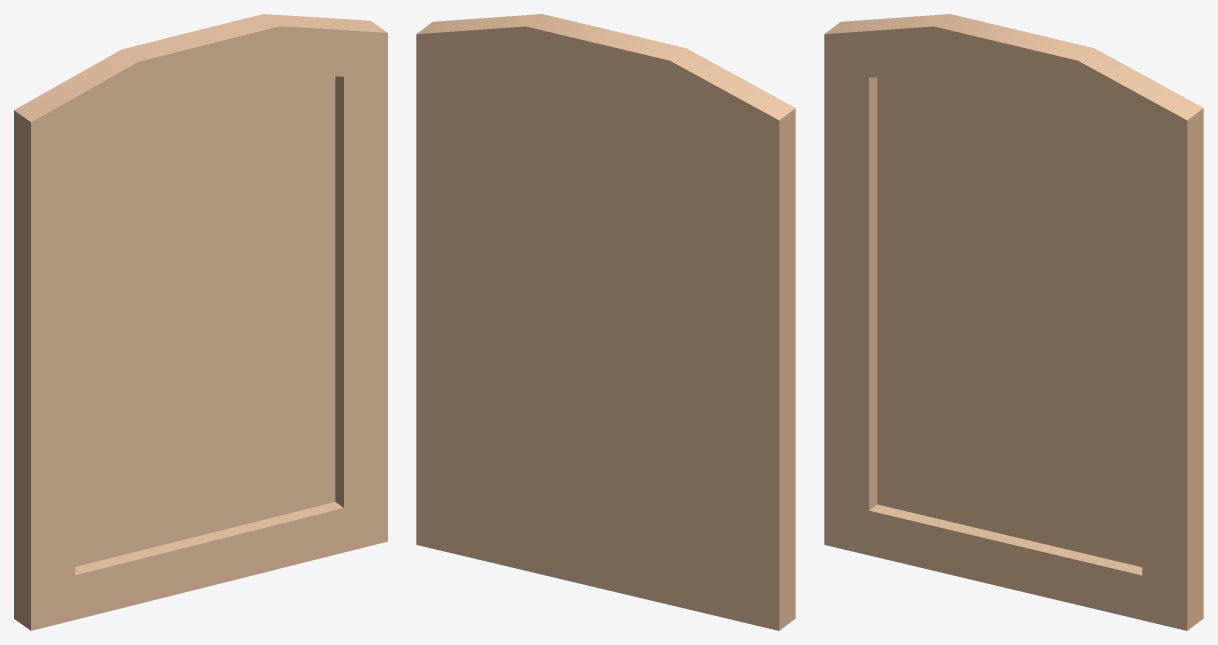
Rendered from flower-in.glb.
The picture shows the model from 3 angles, left to right: view 1: azimuth 30°, elevation 25°; view 2: azimuth 150°, elevation 25°; view 3: azimuth 330°, elevation 25°; orthographic projection.
Parts seen in each view (by area): view 1: clueFlowerBedroomMirror.002; view 2: clueFlowerBedroomMirror.002; view 3: clueFlowerBedroomMirror.002.
Boxes of the visible parts, box(x1,y1,x2,y2) form: clueFlowerBedroomMirror.002: box(14, 14, 387, 630); clueFlowerBedroomMirror.002: box(416, 14, 795, 630); clueFlowerBedroomMirror.002: box(824, 14, 1203, 630).
Bounding box in the file's own units: 0.271 × 0.3906 × 0.0251.
